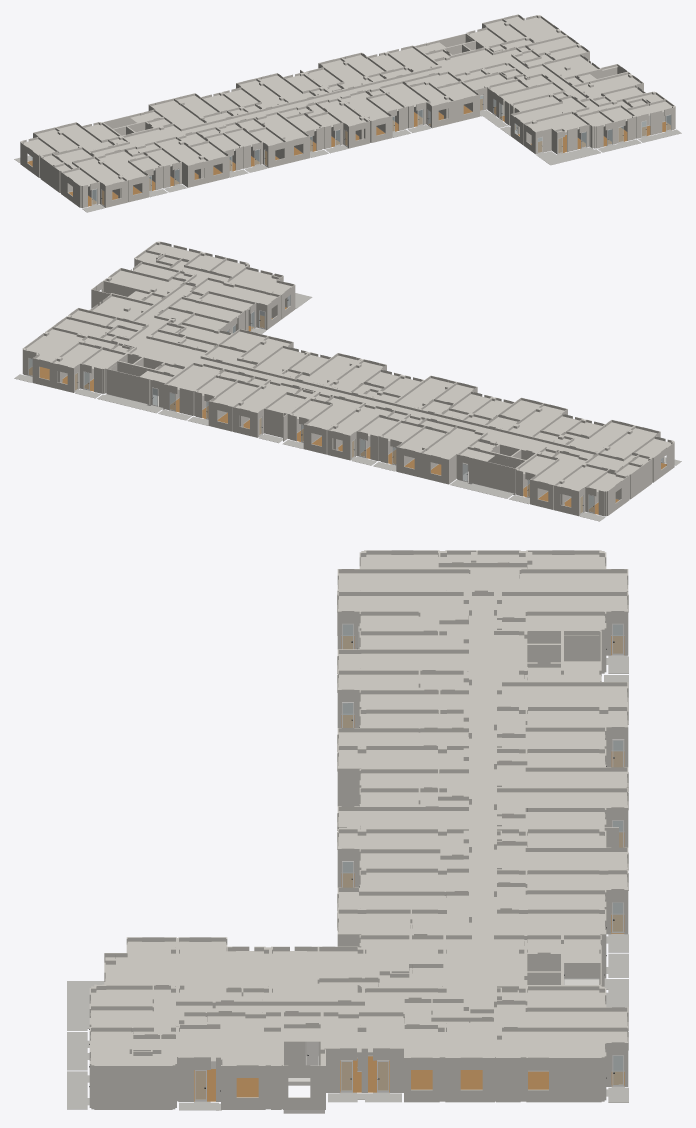
3 views of the same model, one above another, from view 1: azimuth 30°, elevation 25°; view 2: azimuth 150°, elevation 25°; view 3: azimuth 270°, elevation 25° (orthographic). The views are drawn at different scales.
Visible parts, largest first — view 1: in_L02_walls__int_wall, in_L02_ceiling__int_wall, in_L02_u9_walls__int_wall, in_L02_u20_walls__int_wall, in_L02_u20_ceiling__int_wall, in_L02_u9_ceiling__int_wall, in_L02_u12_walls__int_wall, in_L02_u12_ceiling__int_wall, in_L02_u15_walls__int_wall, in_L02_u6_ceiling__int_wall, in_L02_u14_walls__int_wall, in_L02_u1_ceiling__int_wall (+28 smaller); view 2: in_L02_walls__int_wall, in_L02_ceiling__int_wall, in_L02_u20_walls__int_wall, in_L02_u20_ceiling__int_wall, in_L02_u9_ceiling__int_wall, in_L02_u6_walls__int_wall, in_L02_u12_ceiling__int_wall, in_L02_u6_ceiling__int_wall, in_L02_u1_ceiling__int_wall, in_L02_u1_walls__int_wall, in_L02_u11_ceiling__int_wall, in_L02_u7_ceiling__int_wall (+29 smaller); view 3: in_L02_walls__int_wall, in_L02_ceiling__int_wall, in_L02_u9_ceiling__int_wall, in_L02_u20_ceiling__int_wall, in_L02_u12_ceiling__int_wall, in_L02_u6_walls__int_wall, in_L02_u6_ceiling__int_wall, in_L02_u11_ceiling__int_wall, in_L02_u7_ceiling__int_wall, in_L02_u9_walls__int_wall, in_L02_u1_ceiling__int_wall, in_L02_u7_walls__int_wall (+33 smaller).
Boxes of the visible parts, x1=… form: in_L02_walls__int_wall: x1=55, y1=33, x2=675, y2=207; in_L02_ceiling__int_wall: x1=92, y1=42, x2=617, y2=155; in_L02_u9_walls__int_wall: x1=523, y1=91, x2=675, y2=154; in_L02_u20_walls__int_wall: x1=20, y1=127, x2=127, y2=207; in_L02_u20_ceiling__int_wall: x1=24, y1=129, x2=124, y2=186; in_L02_u9_ceiling__int_wall: x1=526, y1=94, x2=671, y2=132; in_L02_u12_walls__int_wall: x1=378, y1=69, x2=488, y2=128; in_L02_u12_ceiling__int_wall: x1=382, y1=70, x2=485, y2=106; in_L02_u15_walls__int_wall: x1=218, y1=115, x2=309, y2=168; in_L02_u6_ceiling__int_wall: x1=470, y1=16, x2=563, y2=50; in_L02_u14_walls__int_wall: x1=286, y1=97, x2=369, y2=150; in_L02_u1_ceiling__int_wall: x1=151, y1=95, x2=244, y2=127; in_L02_walls__int_wall: x1=22, y1=259, x2=635, y2=509; in_L02_ceiling__int_wall: x1=113, y1=284, x2=593, y2=461; in_L02_u20_walls__int_wall: x1=554, y1=425, x2=674, y2=516; in_L02_u20_ceiling__int_wall: x1=557, y1=428, x2=670, y2=491; in_L02_u9_ceiling__int_wall: x1=138, y1=244, x2=291, y2=294; in_L02_u6_walls__int_wall: x1=22, y1=327, x2=133, y2=393; in_L02_u12_ceiling__int_wall: x1=182, y1=331, x2=304, y2=374; in_L02_u6_ceiling__int_wall: x1=26, y1=329, x2=128, y2=368; in_L02_u1_ceiling__int_wall: x1=383, y1=417, x2=481, y2=459; in_L02_u1_walls__int_wall: x1=380, y1=414, x2=484, y2=484; in_L02_u11_ceiling__int_wall: x1=153, y1=299, x2=240, y2=343; in_L02_u7_ceiling__int_wall: x1=56, y1=296, x2=150, y2=339; in_L02_walls__int_wall: x1=91, y1=551, x2=628, y2=1109; in_L02_ceiling__int_wall: x1=215, y1=596, x2=600, y2=1065; in_L02_u9_ceiling__int_wall: x1=90, y1=941, x2=212, y2=1065; in_L02_u20_ceiling__int_wall: x1=338, y1=554, x2=627, y2=590; in_L02_u12_ceiling__int_wall: x1=338, y1=872, x2=468, y2=962; in_L02_u6_walls__int_wall: x1=497, y1=986, x2=628, y2=1102; in_L02_u6_ceiling__int_wall: x1=497, y1=990, x2=627, y2=1057; in_L02_u11_ceiling__int_wall: x1=272, y1=939, x2=443, y2=1000; in_L02_u7_ceiling__int_wall: x1=323, y1=1003, x2=493, y2=1057; in_L02_u9_walls__int_wall: x1=89, y1=937, x2=180, y2=1109; in_L02_u1_ceiling__int_wall: x1=497, y1=686, x2=627, y2=747; in_L02_u7_walls__int_wall: x1=328, y1=999, x2=497, y2=1102.
Size of the model in its own units: 82.8 by 3.6 by 38.1.
